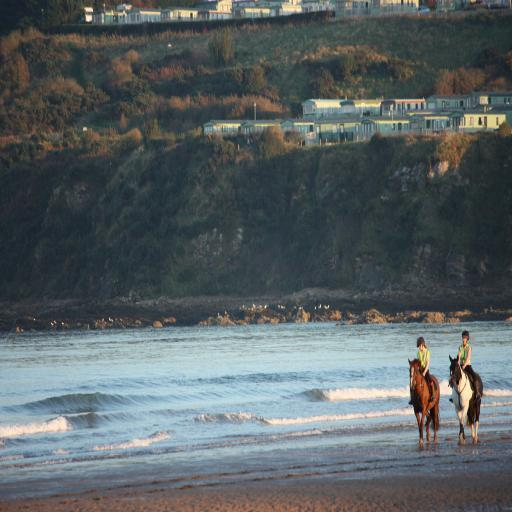horse: (448, 352, 484, 444), (408, 354, 440, 444)
